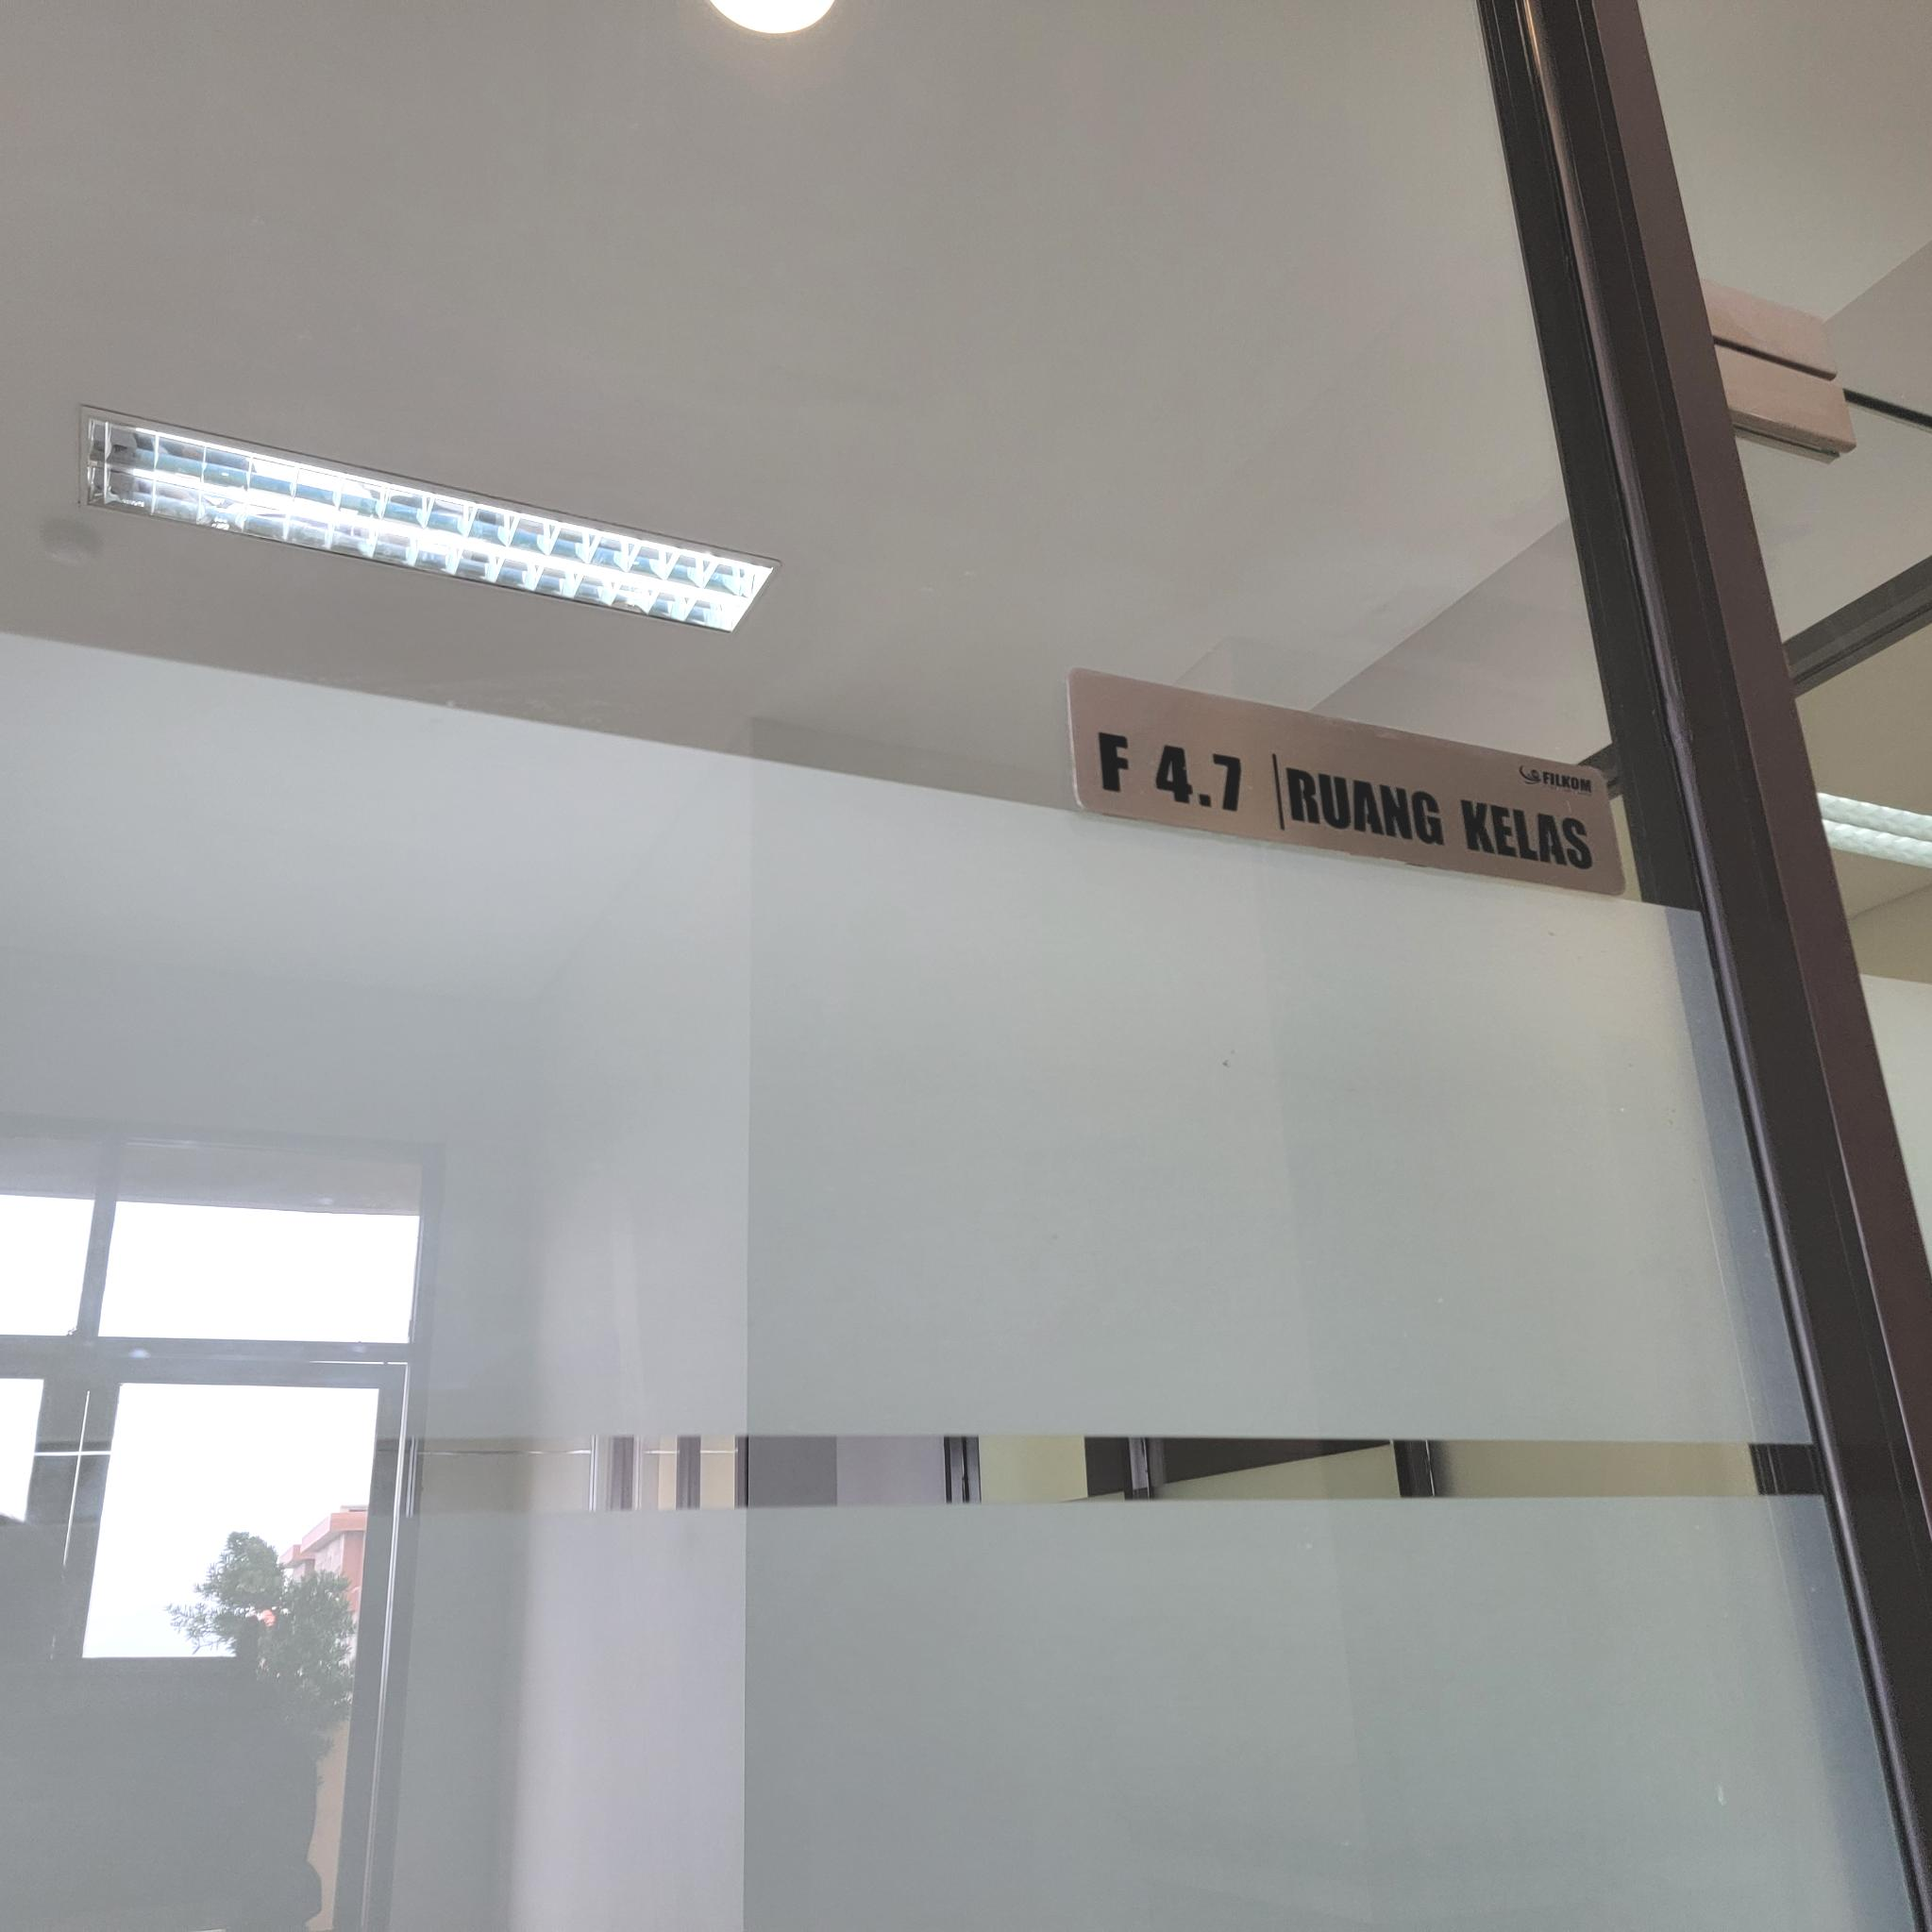plate: (1067, 667, 1626, 895)
